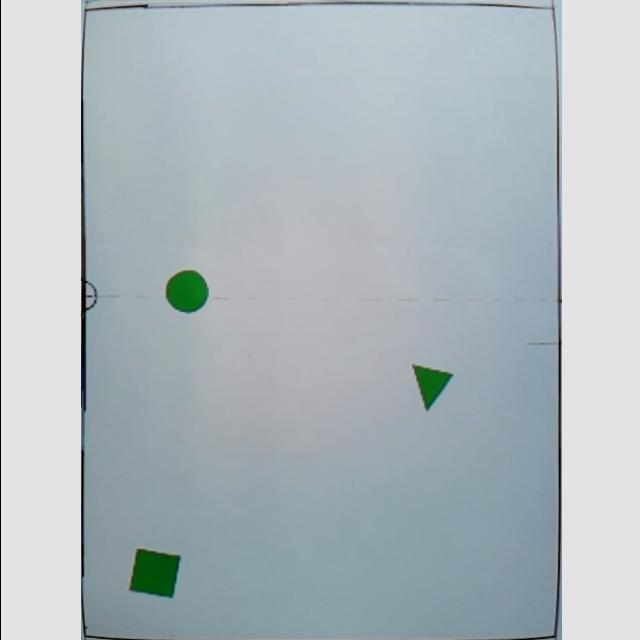greenCircle: (160, 269, 206, 313)
greenSquare: (125, 548, 179, 598)
greenTriangle: (406, 363, 452, 412)
